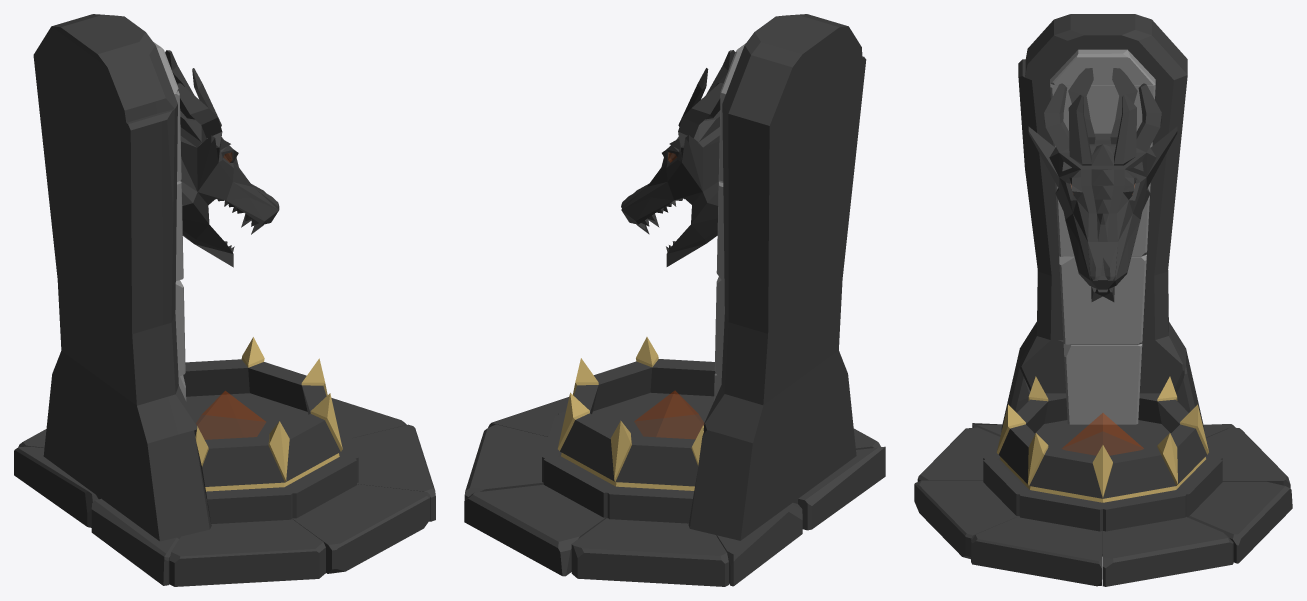
Rendered from eternal_flame.glb.
The picture shows the model from 3 angles, left to right: view 1: azimuth 30°, elevation 25°; view 2: azimuth 150°, elevation 25°; view 3: azimuth 270°, elevation 25°; orthographic projection. The views are drawn at different scales.
Visible parts, largest first — view 1: Wall Plate, Basin, Dragon Head, Wall Core; view 2: Wall Plate, Basin, Dragon Head, Wall Core; view 3: Basin, Wall Plate, Dragon Head, Wall Core.
Boxes of the visible parts, x1,y1,x2,y2 form: Wall Plate: (33,14,211,541); Basin: (14,337,435,586); Dragon Head: (165,50,279,267); Wall Core: (153,42,186,401); Wall Plate: (688,14,866,540); Basin: (464,337,885,586); Dragon Head: (621,50,735,266); Wall Core: (714,43,745,400); Basin: (914,376,1292,586); Wall Plate: (1001,14,1204,431); Dragon Head: (1028,68,1177,301); Wall Core: (1050,49,1155,424).
Bounding box in the file's own units: 2.34 × 3.34 × 2.62.
